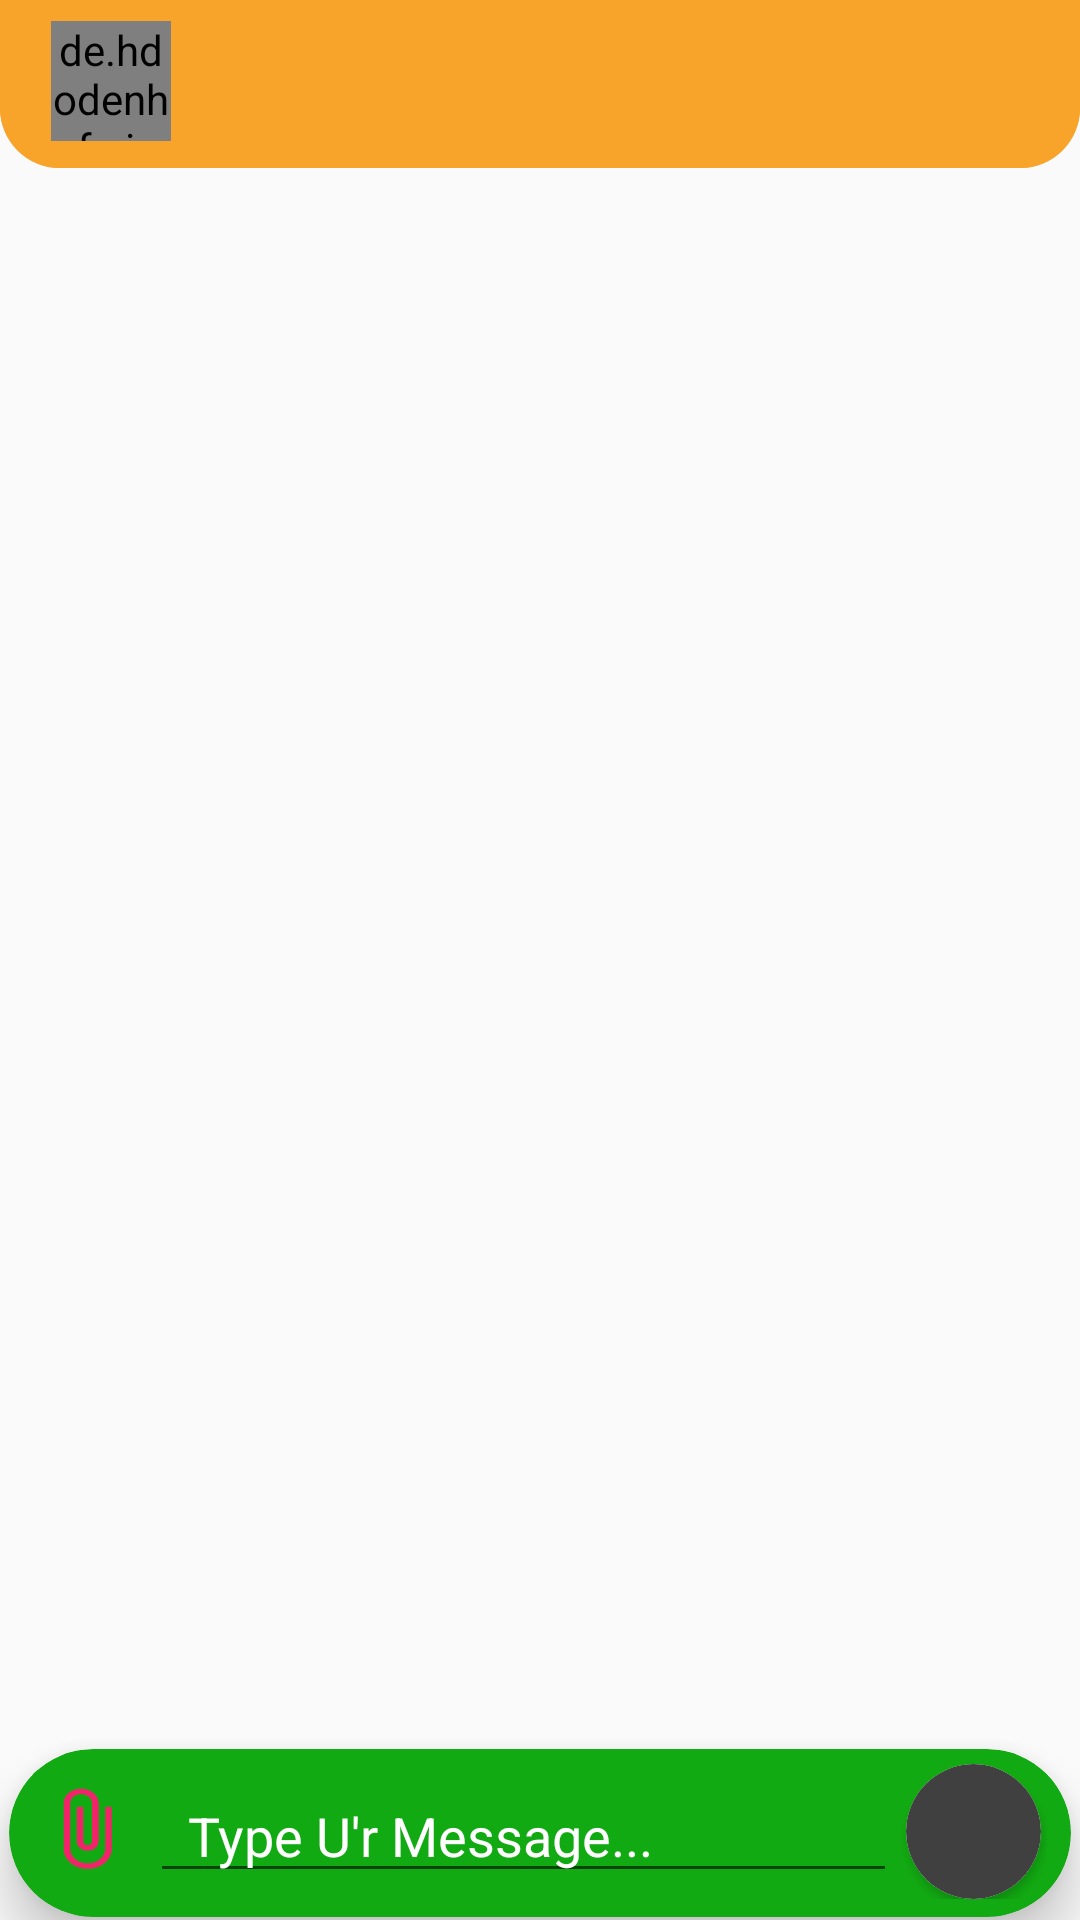

Point at icon controls on the screen. Image size 1080 × 1920, points as (x=x, y=y).
attach: (x=87, y=1829)
